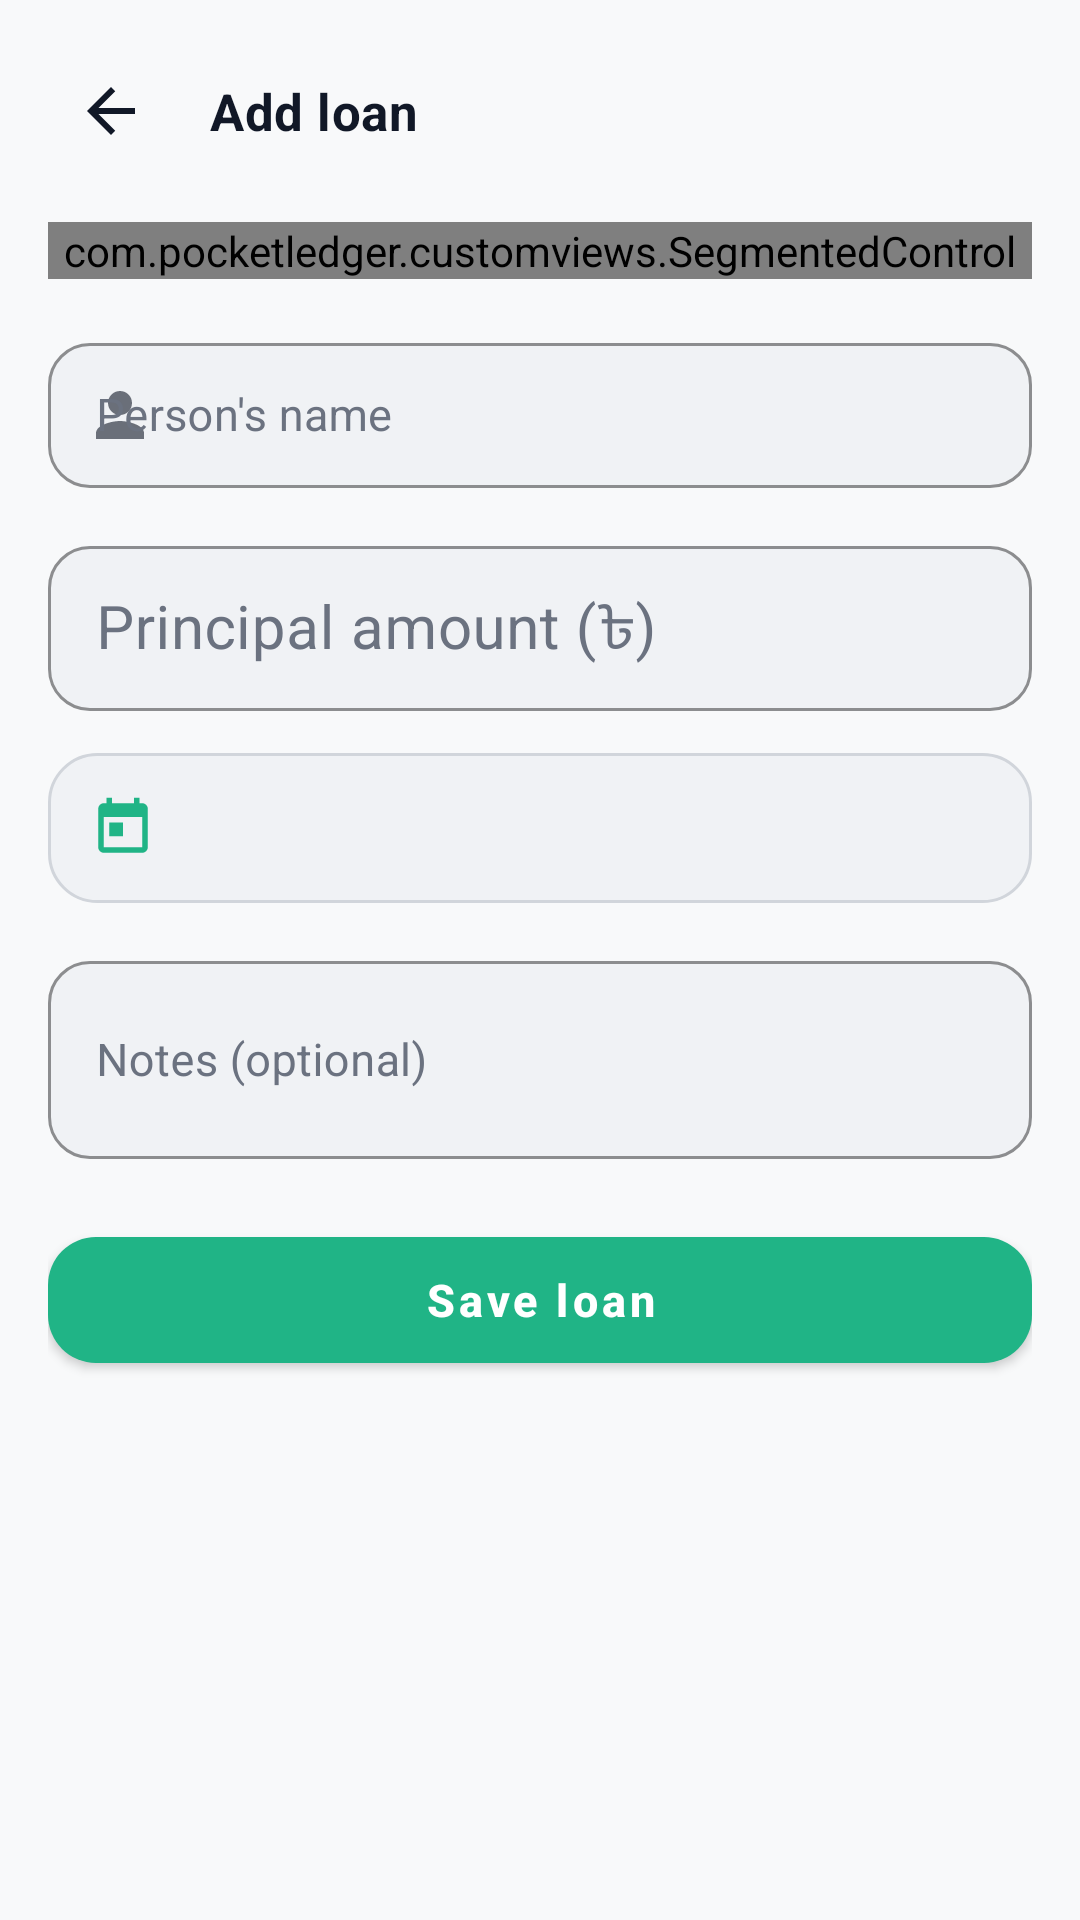

Where icons sit on this 1080px x 1920px app screen, as {"left": x1, "top": y1, "right": x2, "bottom": y2}:
Back: {"left": 87, "top": 87, "right": 135, "bottom": 135}
Loan date: {"left": 98, "top": 797, "right": 148, "bottom": 853}
